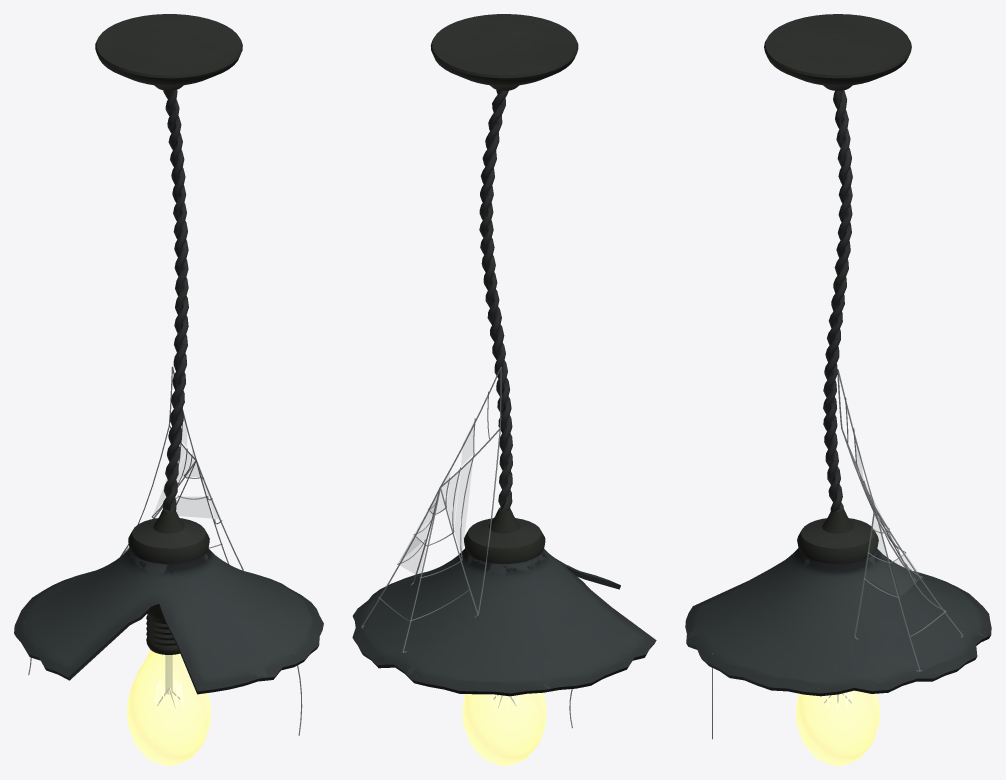
Rendered from hanging-light-bulb.glb.
The picture shows the model from 3 angles, left to right: view 1: azimuth 30°, elevation 25°; view 2: azimuth 150°, elevation 25°; view 3: azimuth 270°, elevation 25°; orthographic projection.
Visible parts, largest first — view 1: hanging-light-bulb_body, hanging-light-bulb_bulb_glow, hanging-light-bulb_web, hanging-light-bulb_filament_glow; view 2: hanging-light-bulb_body, hanging-light-bulb_bulb_glow, hanging-light-bulb_web; view 3: hanging-light-bulb_body, hanging-light-bulb_bulb_glow, hanging-light-bulb_web.
Boxes of the visible parts, <box> form: hanging-light-bulb_body: <box>14,14,323,694</box>; hanging-light-bulb_bulb_glow: <box>127,649,210,765</box>; hanging-light-bulb_web: <box>23,366,302,735</box>; hanging-light-bulb_filament_glow: <box>155,655,182,708</box>; hanging-light-bulb_body: <box>352,14,656,696</box>; hanging-light-bulb_bulb_glow: <box>462,692,546,765</box>; hanging-light-bulb_web: <box>361,366,577,728</box>; hanging-light-bulb_body: <box>685,14,991,696</box>; hanging-light-bulb_bulb_glow: <box>796,690,879,765</box>; hanging-light-bulb_web: <box>712,369,963,739</box>.
Bounding box in the file's own units: 0.2333 × 0.6 × 0.232.
7 materials, 1 textured.
